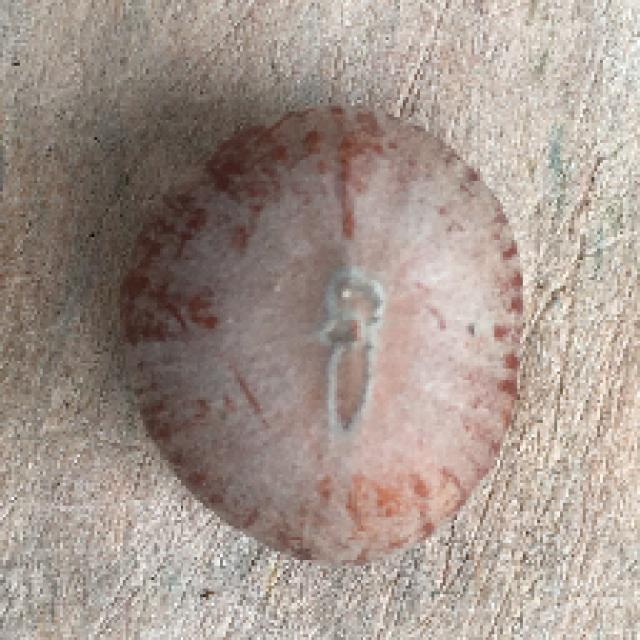QualityHazelnut: (109, 98, 528, 565)
